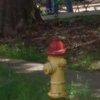Hydrant: (37, 29, 73, 97)
